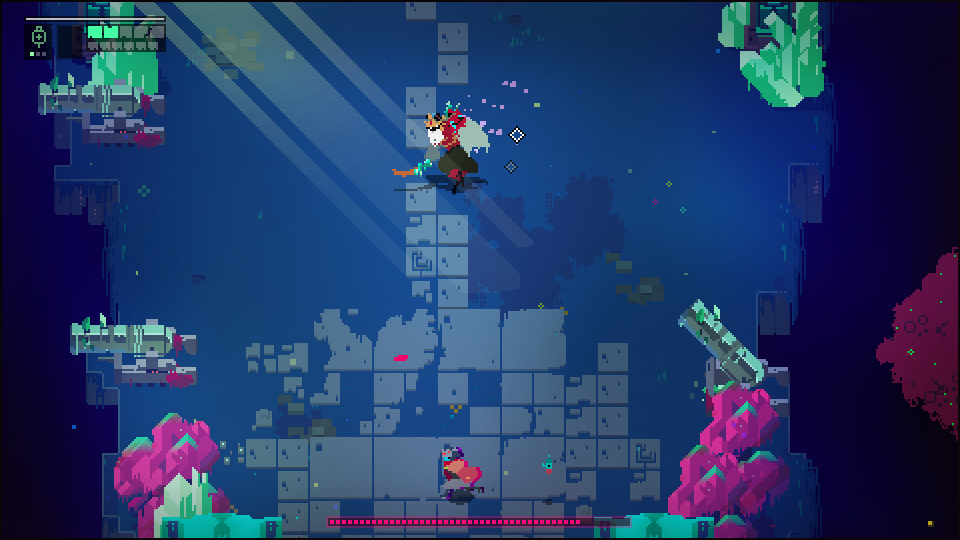hanged_man: (408, 97, 496, 202)
player: (442, 439, 475, 502)
